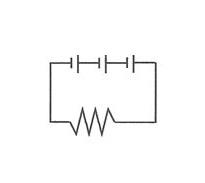resistor: (59, 102, 128, 140)
